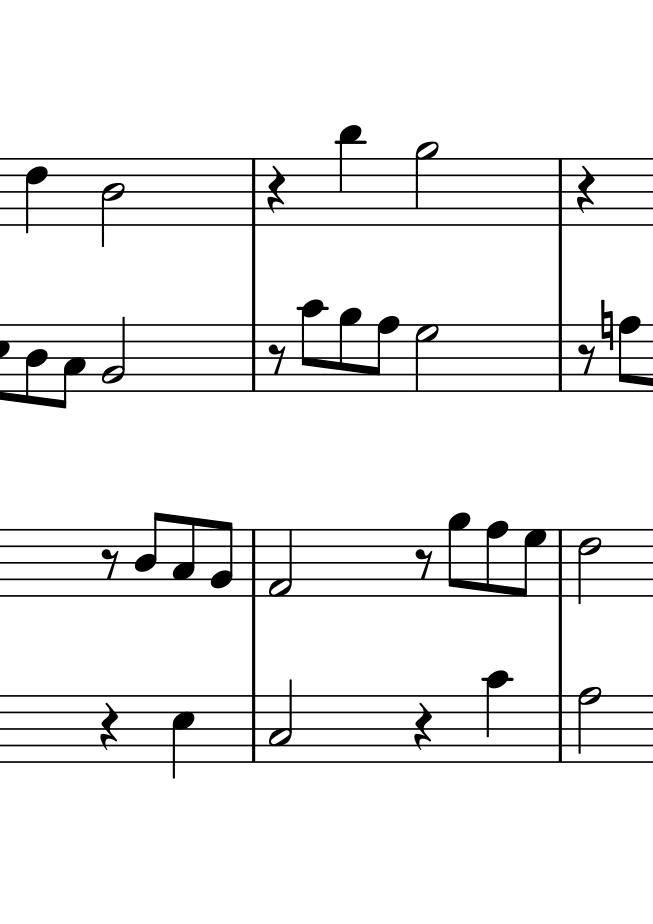2_2: (268, 679, 294, 762), (266, 527, 295, 600), (101, 314, 127, 392)
2_4: (100, 156, 126, 244)
2_6: (577, 528, 601, 604)
2_7: (414, 324, 438, 391)
2_8: (576, 685, 600, 765)
2_9: (413, 138, 438, 227)
4_5: (170, 693, 195, 781)
4_6: (24, 156, 48, 233)
8_10: (300, 299, 326, 393), (484, 670, 509, 767)
8_11: (337, 121, 364, 228)
8_2: (209, 519, 235, 598)
8_3: (54, 322, 86, 410), (171, 516, 196, 598)
8_4: (134, 511, 166, 597), (24, 323, 49, 407)
8_7: (517, 528, 545, 598)
8_8: (369, 314, 400, 394), (617, 315, 642, 394), (485, 520, 510, 599)
8_9: (447, 511, 472, 598), (338, 307, 362, 394)
Natural: (600, 300, 614, 354)
Rests4: (98, 702, 120, 753), (412, 702, 434, 753), (265, 165, 286, 216), (575, 165, 596, 216)
Rests8: (100, 547, 121, 581), (576, 343, 597, 376), (415, 546, 434, 581), (267, 342, 287, 374)
Single_barline: (245, 158, 262, 227), (552, 529, 569, 598), (552, 696, 569, 760), (552, 159, 568, 226), (552, 325, 568, 391), (246, 695, 262, 761), (246, 528, 261, 597), (246, 325, 261, 390)
